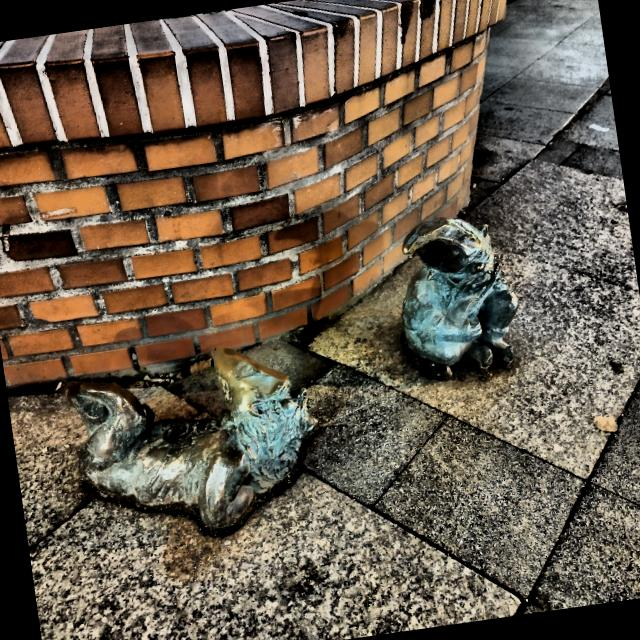Grajek_i_Meloman: (66, 218, 517, 538)
